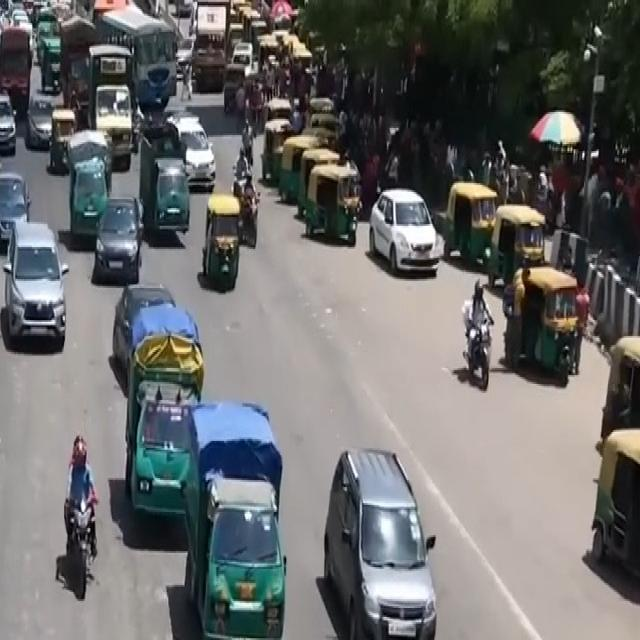car: (309, 430, 460, 640), (0, 215, 77, 357), (358, 178, 451, 286), (89, 194, 151, 290), (0, 162, 37, 260)
motorbike: (45, 425, 114, 615)
rickshaw: (193, 199, 249, 302)
van: (176, 357, 292, 640), (117, 285, 207, 556)
